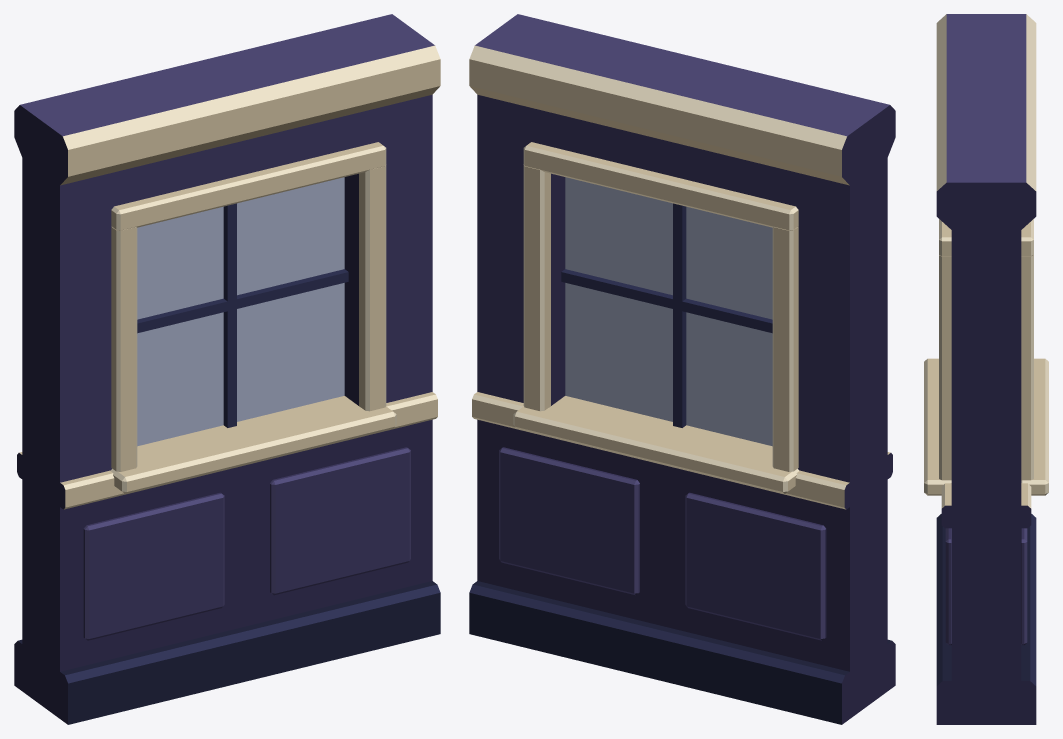
File: Wall_Window_8x12.fbx
3 renders of one model, left to right at view 1: azimuth 30°, elevation 25°; view 2: azimuth 150°, elevation 25°; view 3: azimuth 270°, elevation 25°, orthographic. The views are drawn at different scales.
Visible parts, largest first — view 1: Wall_Window_8x12, Wall_Window_8x12_Glass; view 2: Wall_Window_8x12, Wall_Window_8x12_Glass; view 3: Wall_Window_8x12.
Boxes of the visible parts, <box> form: Wall_Window_8x12: <box>14,14,440,724</box>; Wall_Window_8x12_Glass: <box>137,177,344,446</box>; Wall_Window_8x12: <box>469,14,895,724</box>; Wall_Window_8x12_Glass: <box>565,177,772,446</box>; Wall_Window_8x12: <box>924,14,1048,724</box>.
Size of the model in its own units: 8 by 12 by 2.5.
Materials: 1 (1 with a texture image).
